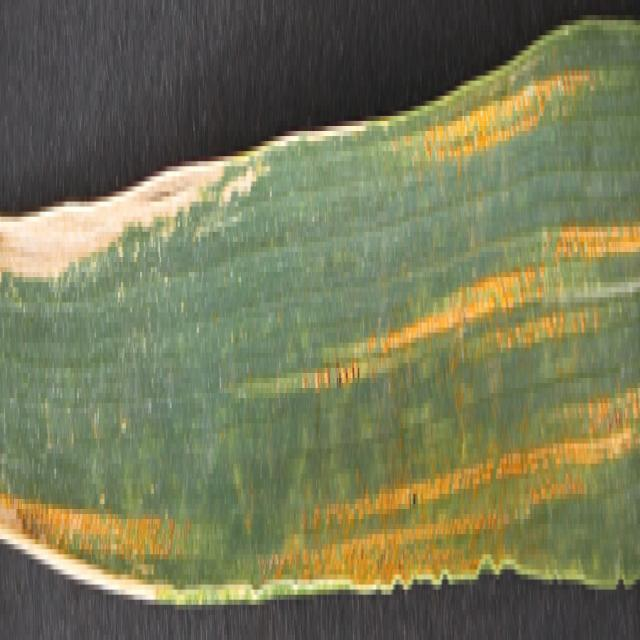leaf rust: (1, 287, 638, 620), (394, 30, 640, 287)
